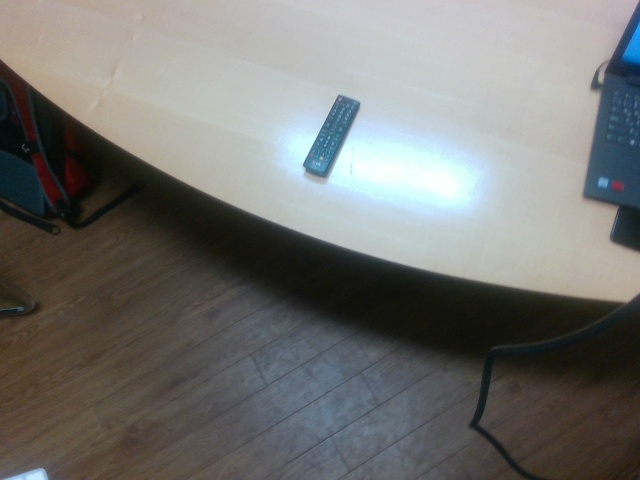remote: (301, 94, 363, 183)
